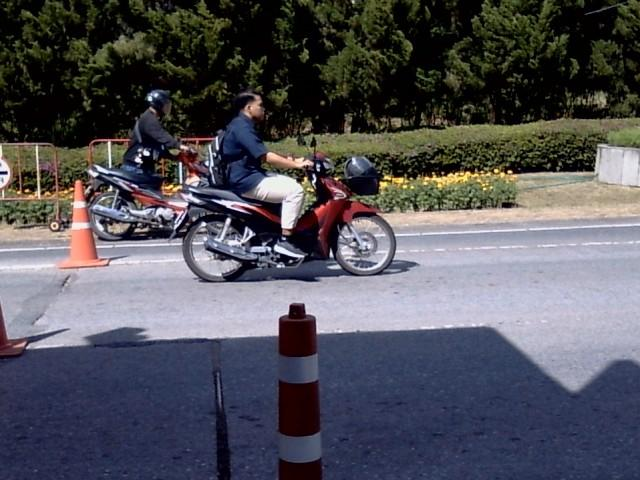helmet: (229, 81, 272, 125), (145, 88, 172, 116)
motor: (181, 150, 394, 281), (85, 164, 186, 238)
person: (222, 89, 312, 257), (123, 89, 188, 177)
